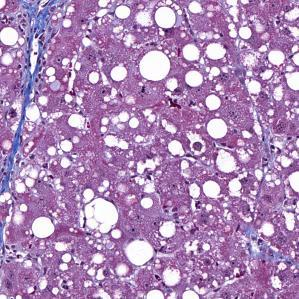fibrosis: (10, 0, 67, 135)
